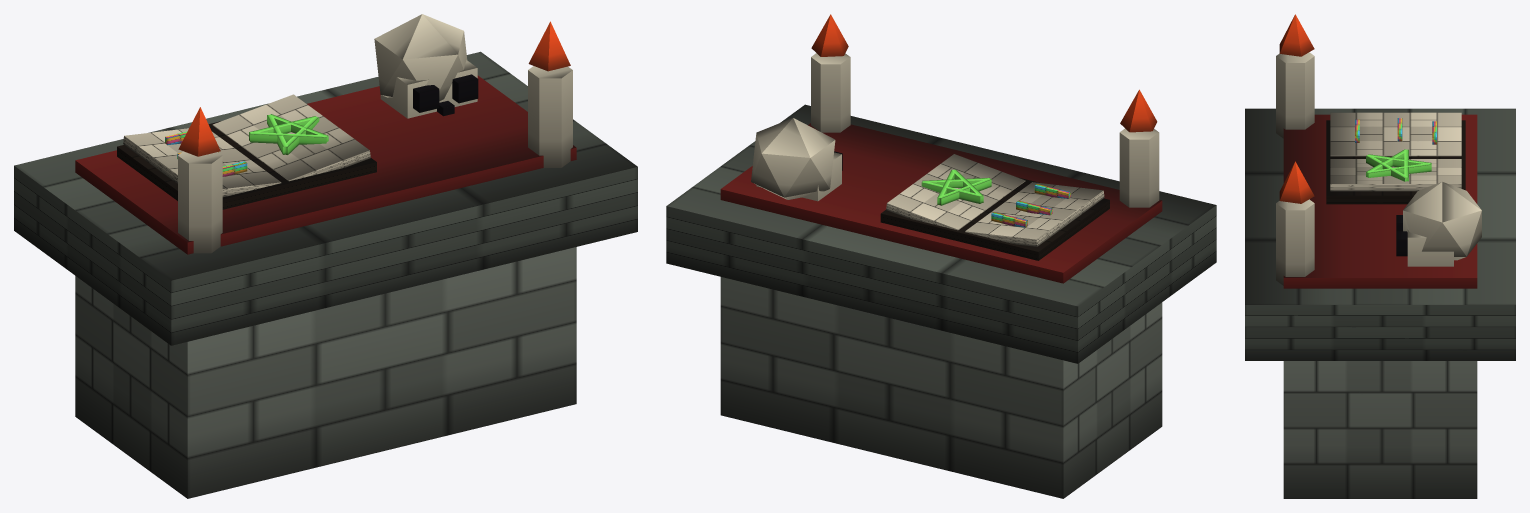
File: ritual_altar.obj
3 views of the same model, side by side, from view 1: azimuth 30°, elevation 25°; view 2: azimuth 150°, elevation 25°; view 3: azimuth 270°, elevation 25° (orthographic). The views are drawn at different scales.
Visible parts, largest first — view 1: ritual_altar; view 2: ritual_altar; view 3: ritual_altar.
Part boxes in pixels (left/top/right/bottom): ritual_altar: left=14, top=14, right=637, bottom=498; ritual_altar: left=666, top=14, right=1216, bottom=498; ritual_altar: left=1245, top=14, right=1515, bottom=498.
Bounding box in the file's own units: 1.2 × 0.94 × 0.7.
1 material, 1 textured.
